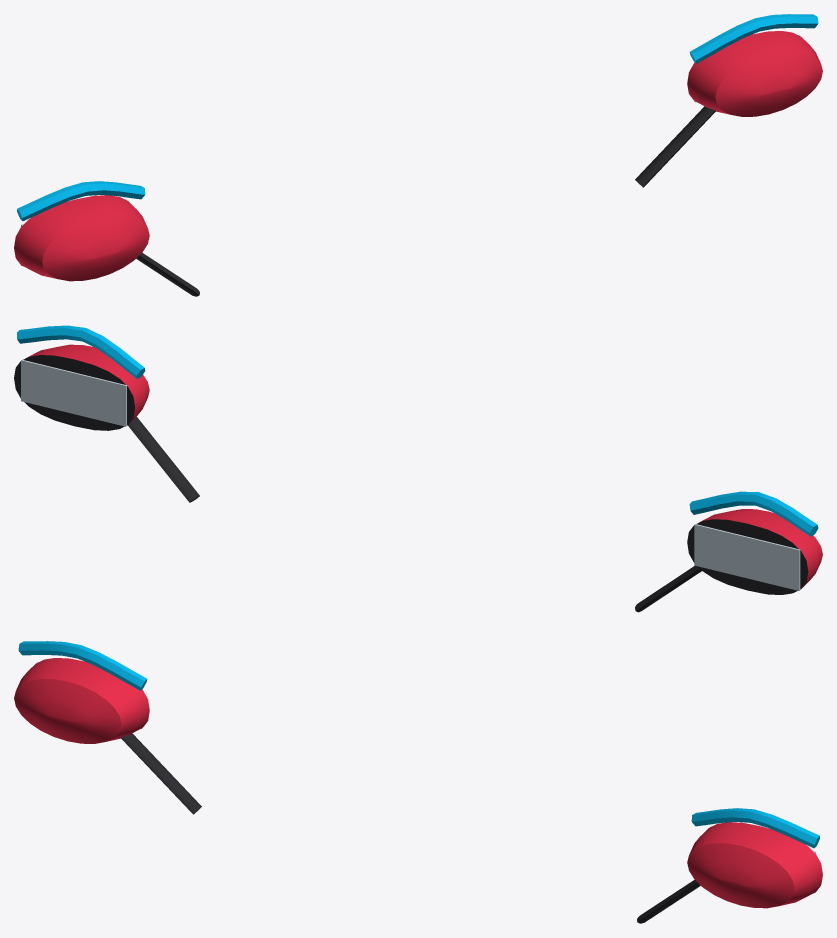
Rendered from eye.glb.
The picture shows the model from 3 angles, top to bottom: view 1: azimuth 30°, elevation 25°; view 2: azimuth 150°, elevation 25°; view 3: azimuth 330°, elevation 25°; orthographic projection.
Visible parts, largest first — view 1: Mirrors_eye; view 2: Mirrors_eye, MirrorGlassR.002, MirrorGlassL.002; view 3: Mirrors_eye.
Boxes of the visible parts, x1,y1,x2,y2 form: Mirrors_eye: [14, 14, 822, 296]; Mirrors_eye: [14, 325, 822, 612]; MirrorGlassR.002: [694, 524, 800, 590]; MirrorGlassL.002: [21, 359, 127, 426]; Mirrors_eye: [14, 641, 822, 923].
Bounding box in the file's own units: 1.19 × 0.202 × 0.0775.
